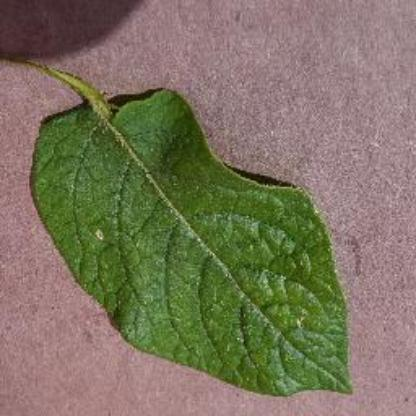Healthy-plant: (28, 63, 358, 401)
